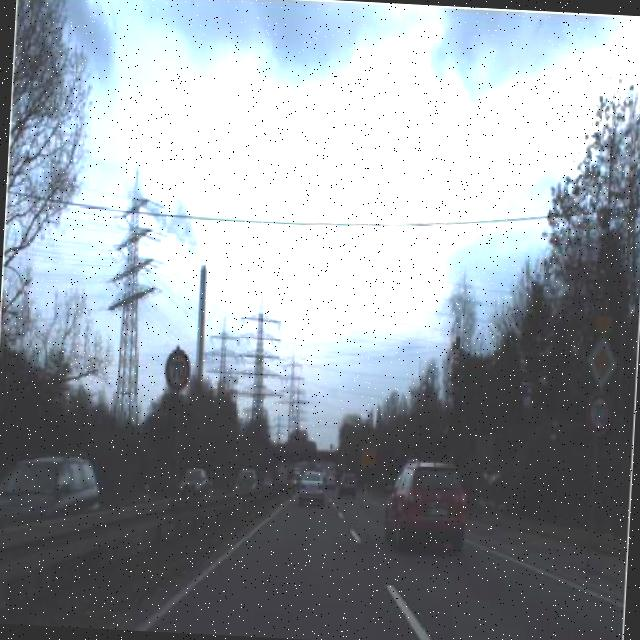Ograniczenie predkosci do 70: (163, 346, 194, 396), (583, 392, 614, 438)
